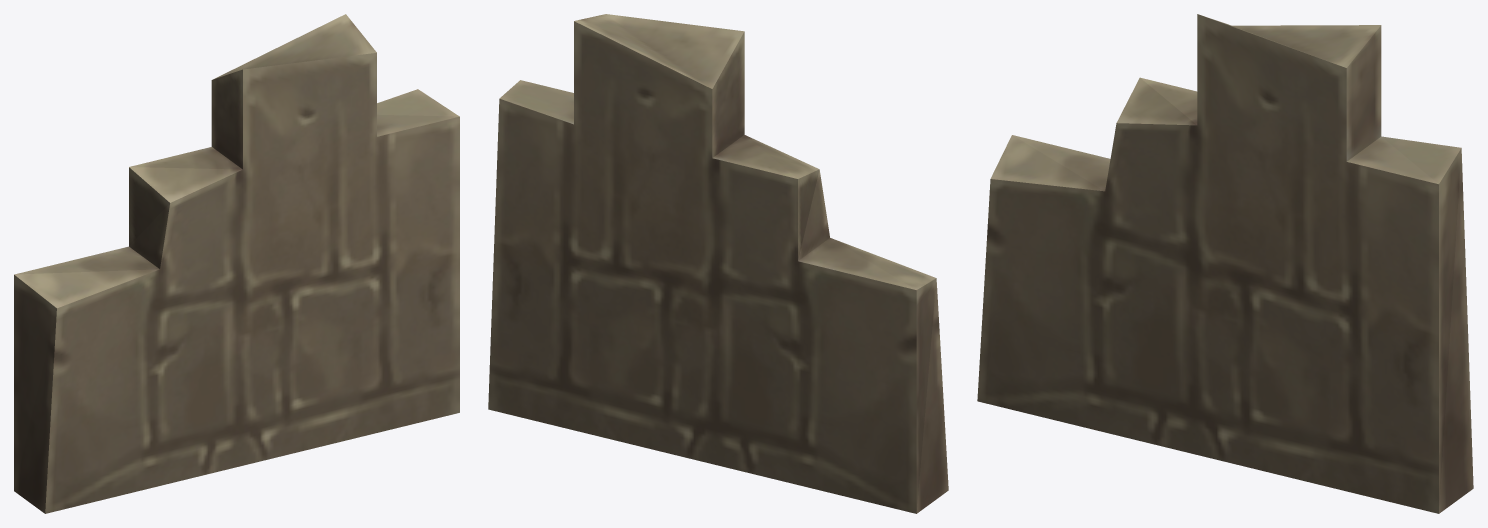
File: Stage_CaoYuan_ShiQiang01.FBX
3 renders of one model, left to right at view 1: azimuth 30°, elevation 25°; view 2: azimuth 150°, elevation 25°; view 3: azimuth 330°, elevation 25°, orthographic. The views are drawn at different scales.
Visible parts, largest first — view 1: Stage_CaoYuan_ShiQiang01; view 2: Stage_CaoYuan_ShiQiang01; view 3: Stage_CaoYuan_ShiQiang01.
Part boxes in pixels (box(x1,y1,x2,y2)): Stage_CaoYuan_ShiQiang01: box(14, 14, 459, 513); Stage_CaoYuan_ShiQiang01: box(488, 14, 948, 513); Stage_CaoYuan_ShiQiang01: box(977, 14, 1473, 513).
Size of the model in its own units: 139 by 127 by 18.06.
